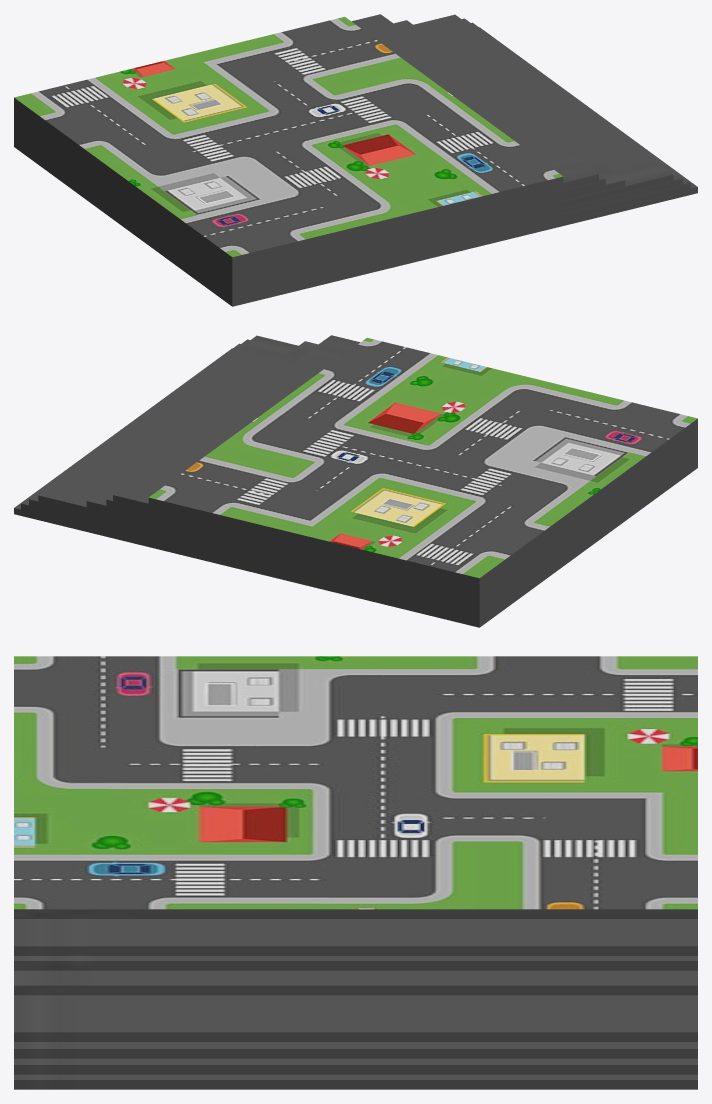
Rendered from plano2.fbx.
The picture shows the model from 3 angles, top to bottom: view 1: azimuth 30°, elevation 25°; view 2: azimuth 150°, elevation 25°; view 3: azimuth 270°, elevation 25°; orthographic projection. The views are drawn at different scales.
Parts seen in each view (by area): view 1: Cubo; view 2: Cubo; view 3: Cubo.
Boxes of the visible parts, <box> form: Cubo: <box>14,14,697,306</box>; Cubo: <box>14,335,697,627</box>; Cubo: <box>14,656,697,1089</box>.
Size of the model in its own units: 19694 by 2000 by 16000.
1 material, 1 textured.
